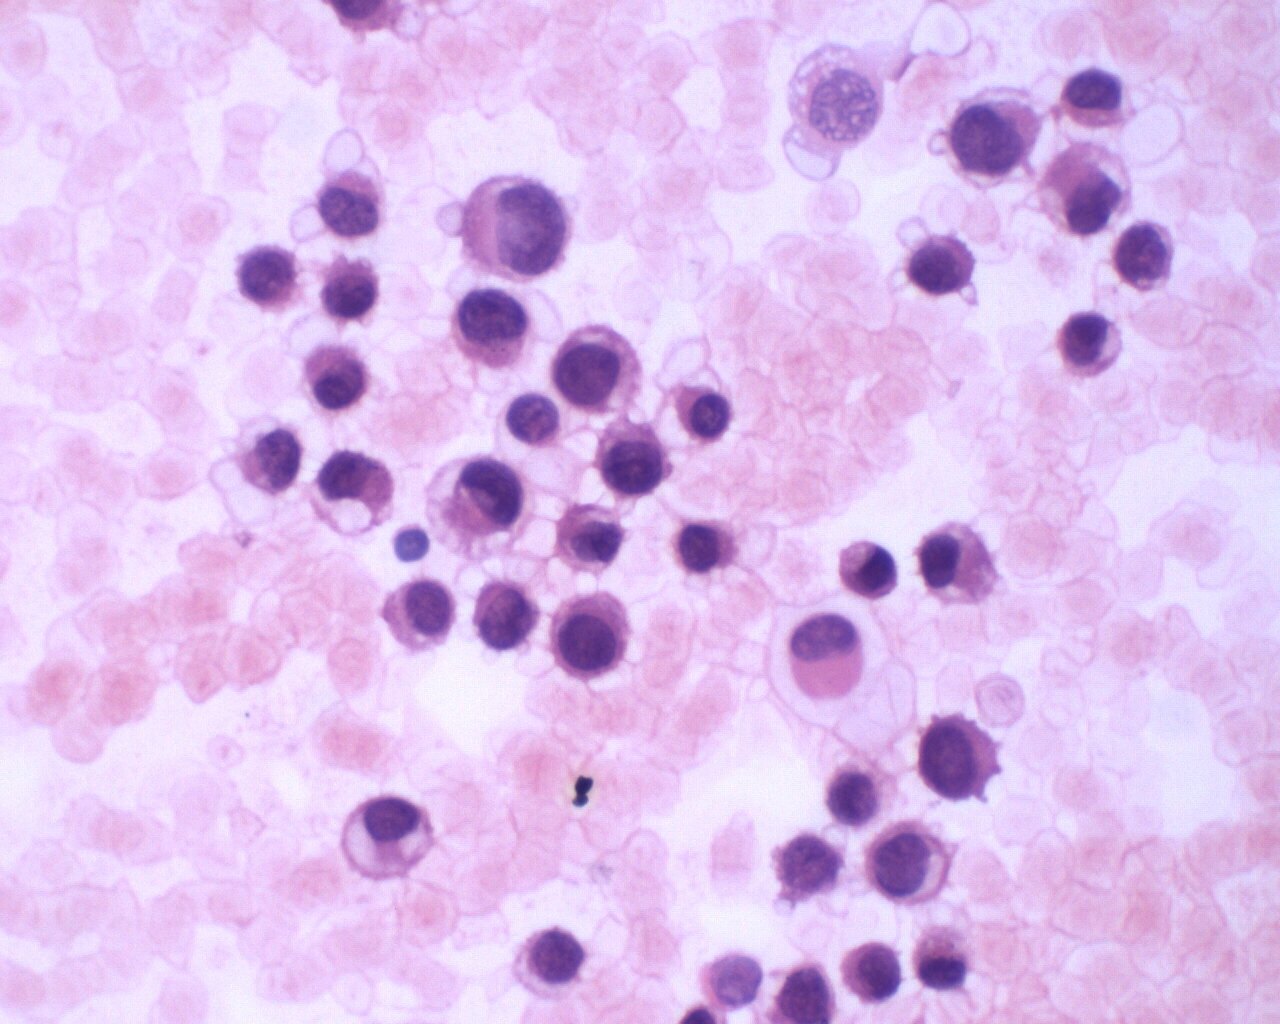ab: (455, 169, 574, 289), (941, 91, 1043, 185), (549, 321, 645, 418), (545, 586, 644, 681), (915, 709, 1008, 807), (863, 819, 961, 909), (448, 285, 537, 381), (590, 418, 676, 501), (378, 573, 461, 658), (1055, 306, 1128, 387), (471, 576, 544, 656), (1107, 218, 1179, 300), (227, 240, 302, 315), (904, 228, 976, 302), (301, 341, 370, 416), (317, 253, 385, 327), (836, 939, 908, 1007), (1058, 67, 1133, 132), (668, 514, 743, 576), (677, 385, 740, 449)
meso: (332, 792, 435, 882), (911, 511, 1001, 607)
